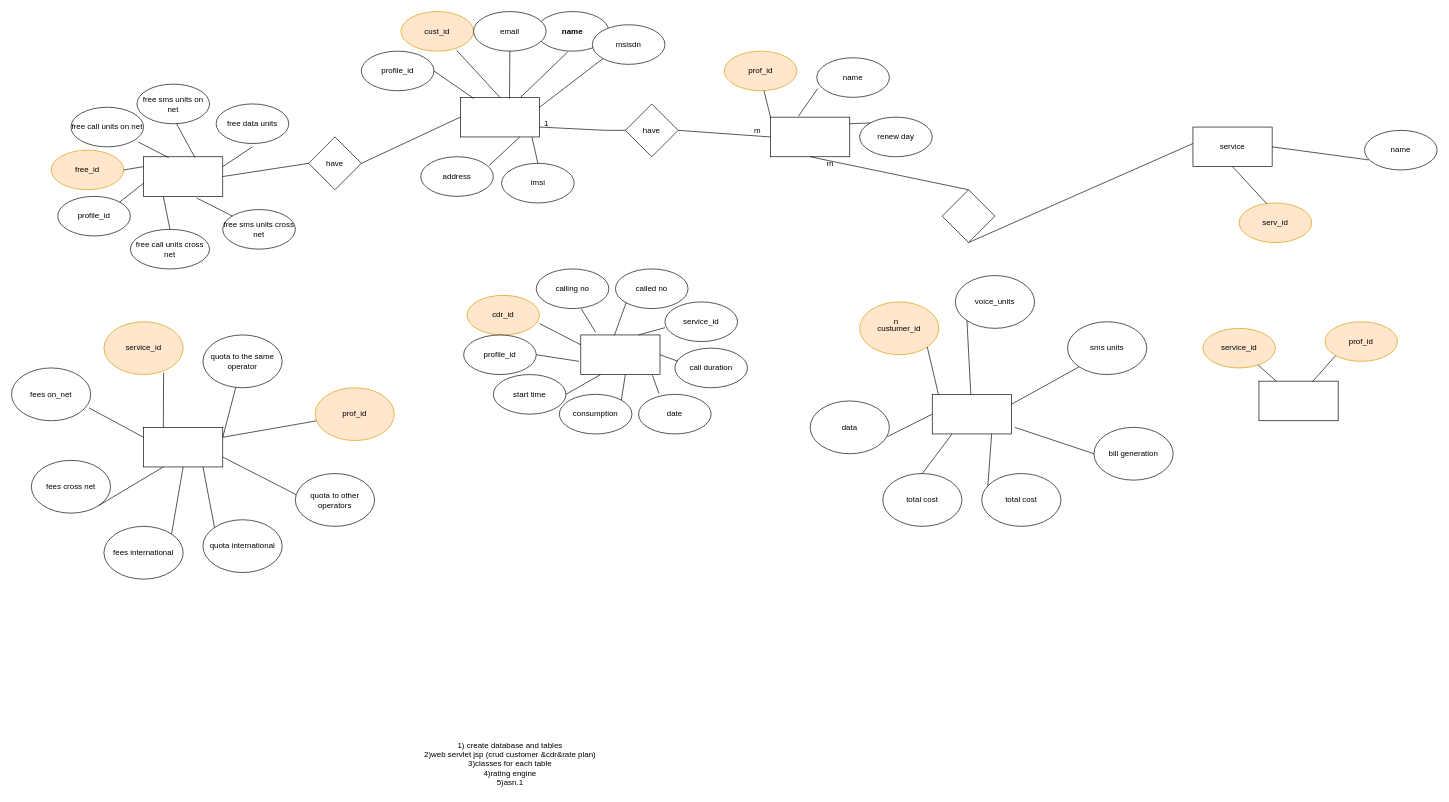
The diagram is 1449 pixels wide and 802 high, and some of its shapes have lost their labels. The centre of each missing label's shape, as x and y in pixels:
"CDR" belongs at pixel 620 354.
"customer" belongs at pixel 500 117.
"free units" belongs at pixel 183 176.
"include" belongs at pixel 968 216.
"invoice" belongs at pixel 971 414.
"prof_service" belongs at pixel 1298 400.
"profile(rate plan)" belongs at pixel 810 136.
"rating" belongs at pixel 183 447.
